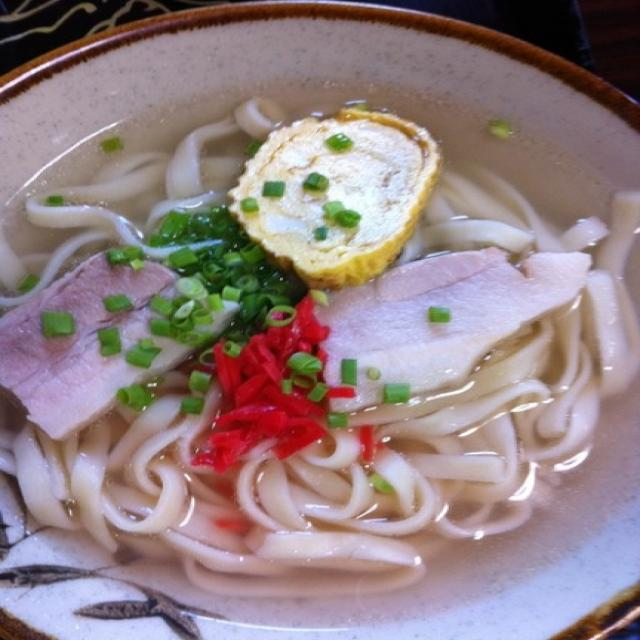蔬菜料理: (48, 32, 596, 576)
